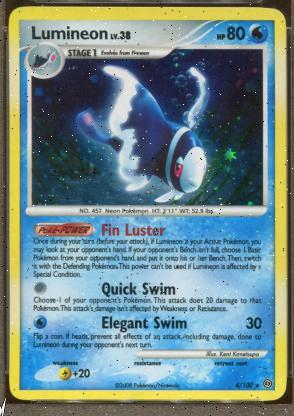Card: (6, 3, 288, 403)
